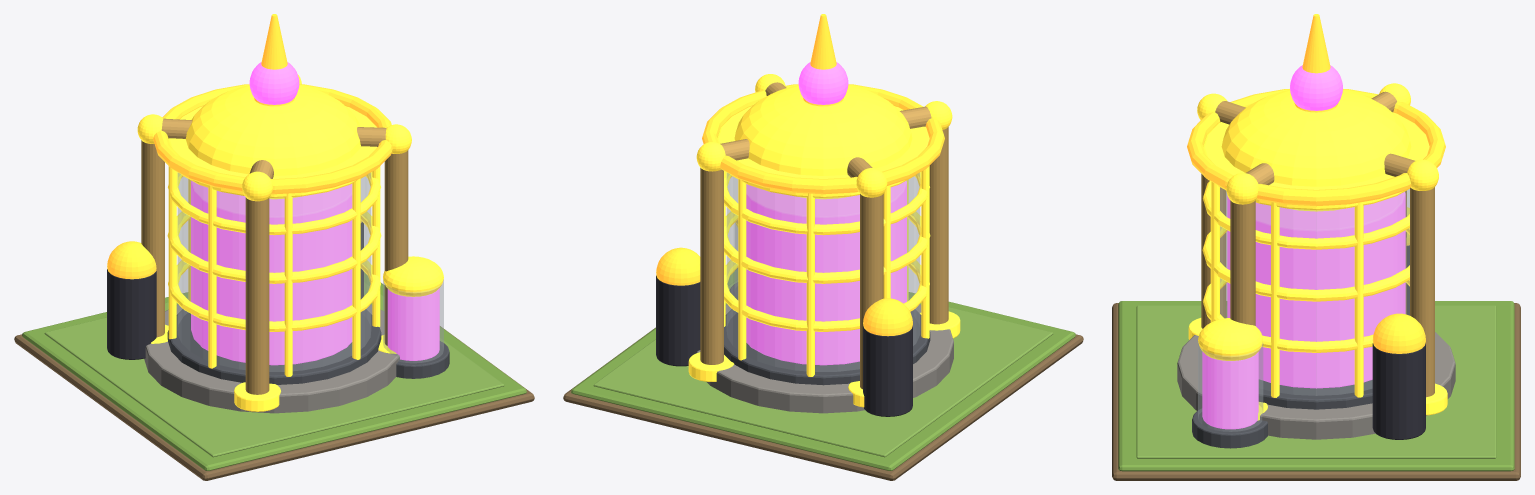
The model's file is elixir_collector_lv9.glb.
3 renders of one model, left to right at view 1: azimuth 30°, elevation 25°; view 2: azimuth 150°, elevation 25°; view 3: azimuth 270°, elevation 25°, orthographic. The views are drawn at different scales.
Visible parts, largest first — view 1: GlassCylinder, ElixirLiquid, Base_Inner, BrassDome, Base_Grass, WellBase, Base_Dirt, EC_CrownHalo, PipeDown_3, WellIronRing, AuxTankGlass, EC_BoosterTank_-1 (+21 smaller); view 2: GlassCylinder, Base_Inner, ElixirLiquid, BrassDome, Base_Grass, WellBase, Base_Dirt, EC_CrownHalo, PipeDown_1, EC_BoosterTank_-1, WellIronRing, EC_BoosterTank_1 (+17 smaller); view 3: Base_Inner, GlassCylinder, ElixirLiquid, BrassDome, Base_Grass, Base_Dirt, WellBase, EC_CrownHalo, AuxTankGlass, EC_BoosterTank_1, PipeDown_1, AuxTankElixir (+21 smaller).
Boxes of the visible parts, x1,y1,x2,y2 form: GlassCylinder: (177,173,371,371); ElixirLiquid: (191,180,352,365); Base_Inner: (44,282,504,457); BrassDome: (185,85,360,199); Base_Grass: (22,272,526,470); WellBase: (144,304,399,413); Base_Dirt: (14,283,534,480); EC_CrownHalo: (153,84,392,194); PipeDown_3: (245,197,269,394); WellIronRing: (167,309,381,384); AuxTankGlass: (383,279,443,362); EC_BoosterTank_-1: (107,269,156,359); GlassCylinder: (726,173,920,371); Base_Inner: (593,279,1053,457); ElixirLiquid: (746,180,906,365); BrassDome: (734,85,912,199); Base_Grass: (571,268,1075,470); WellBase: (696,304,953,413); Base_Dirt: (563,327,1083,480); EC_CrownHalo: (702,84,944,194); PipeDown_1: (700,168,723,364); EC_BoosterTank_-1: (863,326,912,416); WellIronRing: (724,309,930,385); EC_BoosterTank_1: (656,275,700,366); Base_Inner: (1136,305,1496,458); GlassCylinder: (1220,187,1409,395); ElixirLiquid: (1227,192,1405,388); BrassDome: (1221,90,1411,211); Base_Grass: (1118,301,1514,471); Base_Dirt: (1112,303,1520,480); WellBase: (1177,332,1455,439); EC_CrownHalo: (1187,89,1445,206); AuxTankGlass: (1198,343,1263,431); EC_BoosterTank_1: (1372,343,1425,439); PipeDown_1: (1410,187,1434,397); AuxTankElixir: (1202,351,1258,429).
Size of the model in its own units: 2.76 by 2.84 by 2.76.
